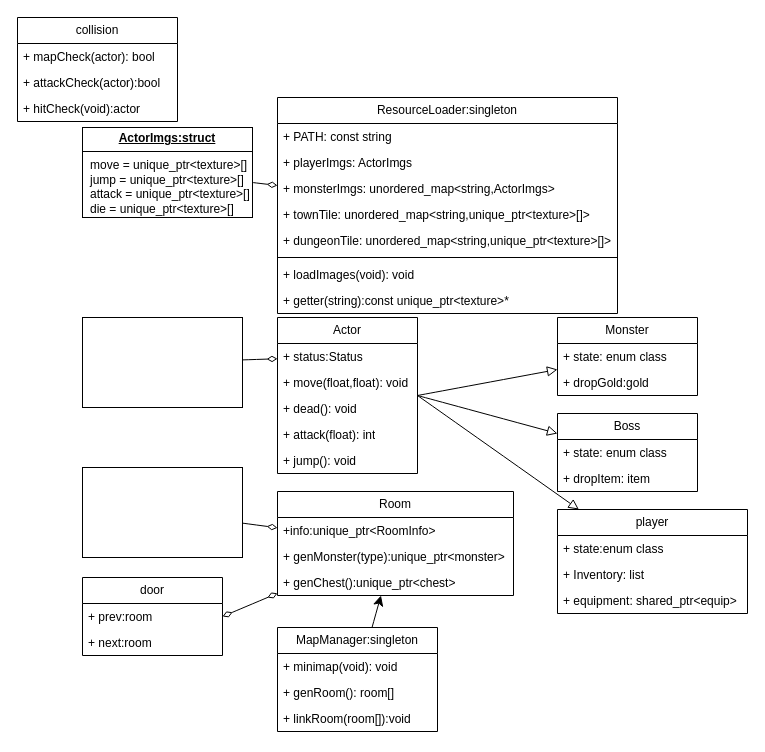
Some shapes in this 765 by 752 pixel diagram are drawn without their labels. Here are the shapes that lost their labels. From the top down, the centre of each, then its label:
At (162,362): "Status:struct maxHp = float tmpHp = float power=float dex=float".
At (162,512): "RoomInfo:struct door=vector<door> type=RoomType chest={gold,item} isClear=bool".
